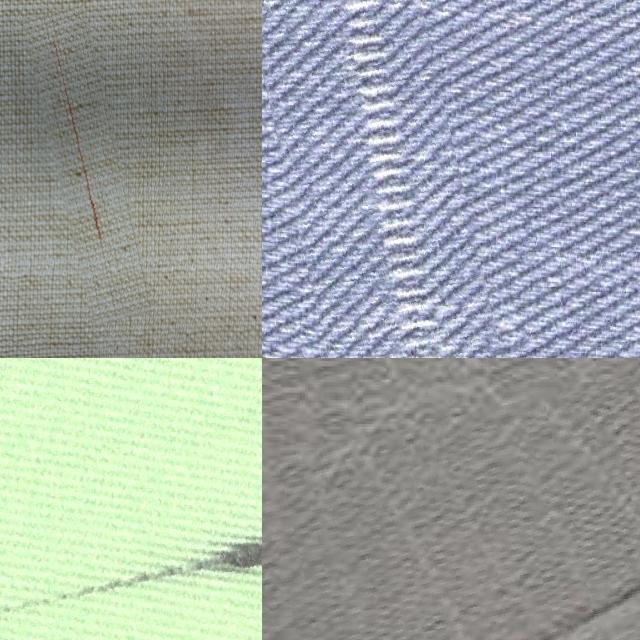stains: (262, 370, 640, 640), (266, 0, 498, 358), (0, 358, 262, 640), (38, 6, 136, 324)
